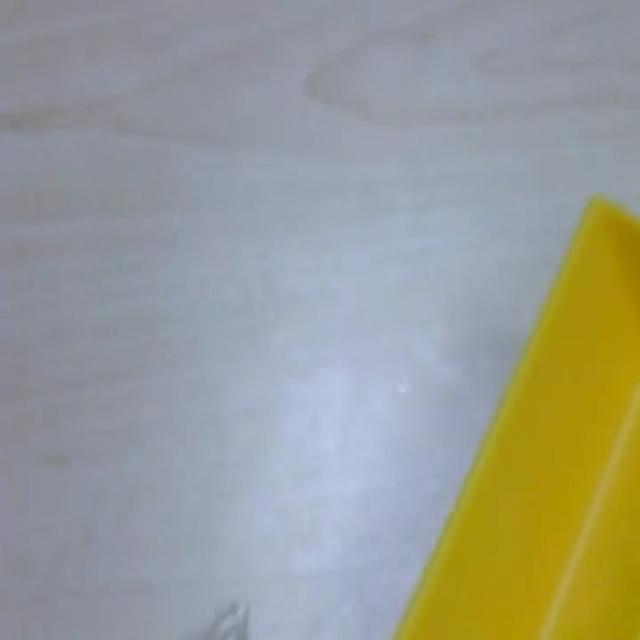yellow_block: (392, 192, 638, 637)
